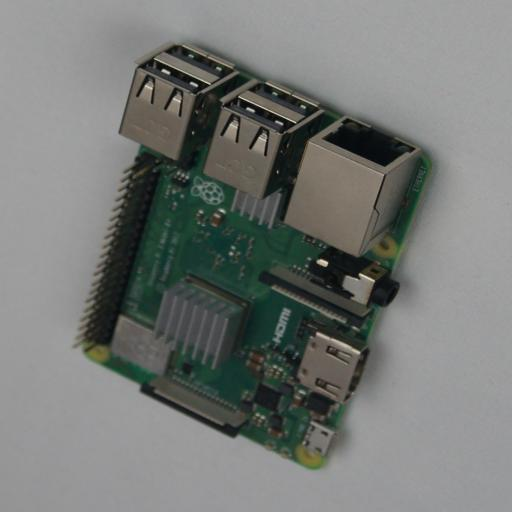Raspberry Pi 3 B-: (80, 44, 438, 469)
